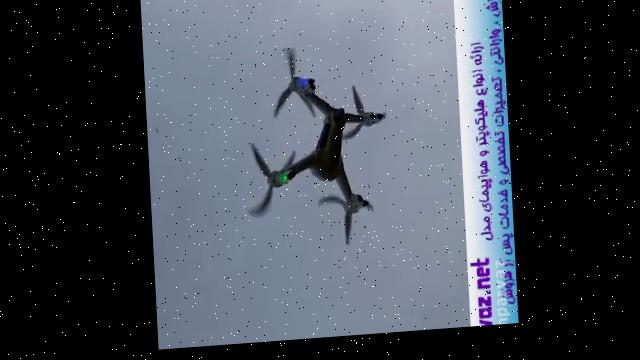drone: (233, 43, 393, 260)
